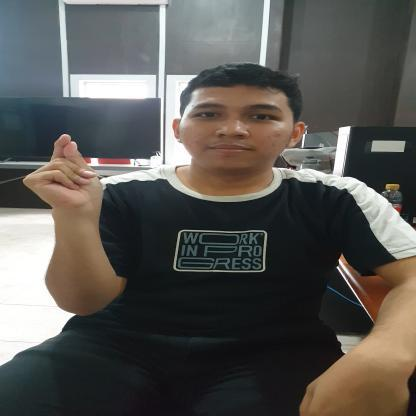R: (16, 132, 118, 214)
